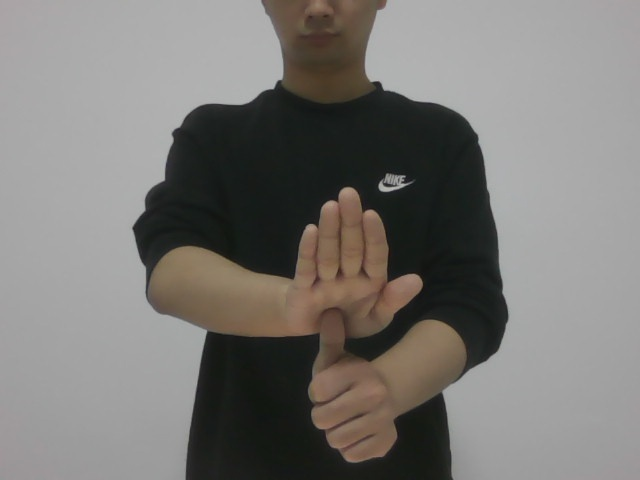love: (276, 192, 428, 458)
